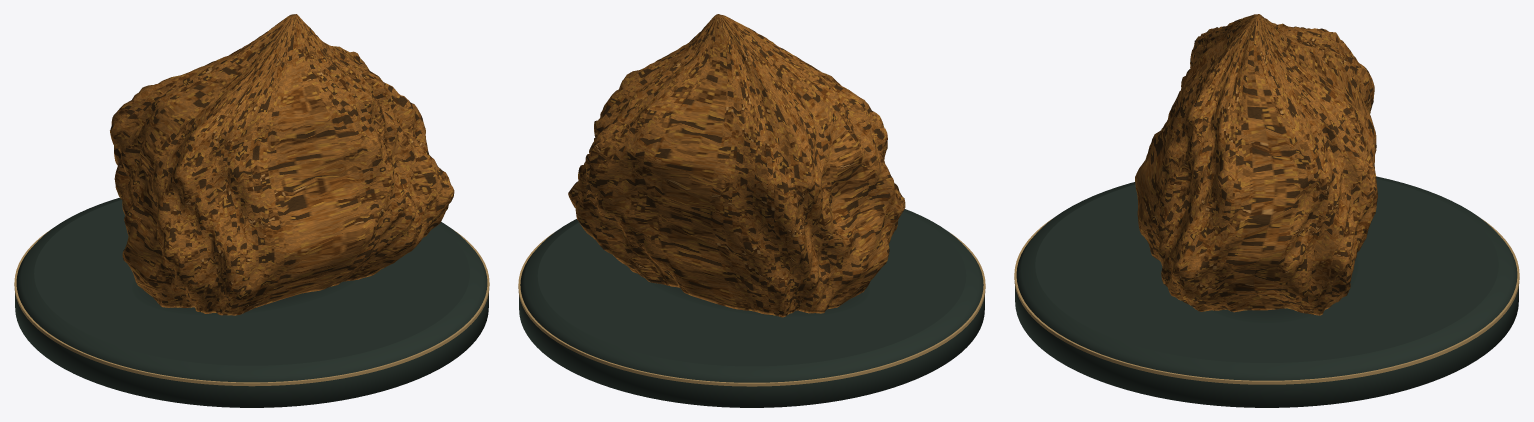
The model's file is lingstone-concept-07-v191-e5c5db430ee4.glb.
The picture shows the model from 3 angles, left to right: view 1: azimuth 30°, elevation 25°; view 2: azimuth 150°, elevation 25°; view 3: azimuth 270°, elevation 25°; orthographic projection. The views are drawn at different scales.
Visible parts, largest first — view 1: XY-CONCEPT-007 concept stone, Centered beveled display plinth, Champagne gold edge; view 2: XY-CONCEPT-007 concept stone, Centered beveled display plinth, Champagne gold edge; view 3: Centered beveled display plinth, XY-CONCEPT-007 concept stone, Champagne gold edge.
Part boxes in pixels (left/top/right/bottom): XY-CONCEPT-007 concept stone: left=110, top=14, right=454, bottom=315; Centered beveled display plinth: left=15, top=197, right=488, bottom=407; Champagne gold edge: left=14, top=230, right=489, bottom=386; XY-CONCEPT-007 concept stone: left=568, top=14, right=905, bottom=317; Centered beveled display plinth: left=519, top=209, right=984, bottom=407; Champagne gold edge: left=518, top=233, right=985, bottom=386; Centered beveled display plinth: left=1015, top=176, right=1518, bottom=407; XY-CONCEPT-007 concept stone: left=1135, top=14, right=1377, bottom=315; Champagne gold edge: left=1014, top=218, right=1519, bottom=384.
Size of the model in its own units: 2.2 by 1.49 by 2.2.
4 materials, 1 textured.
